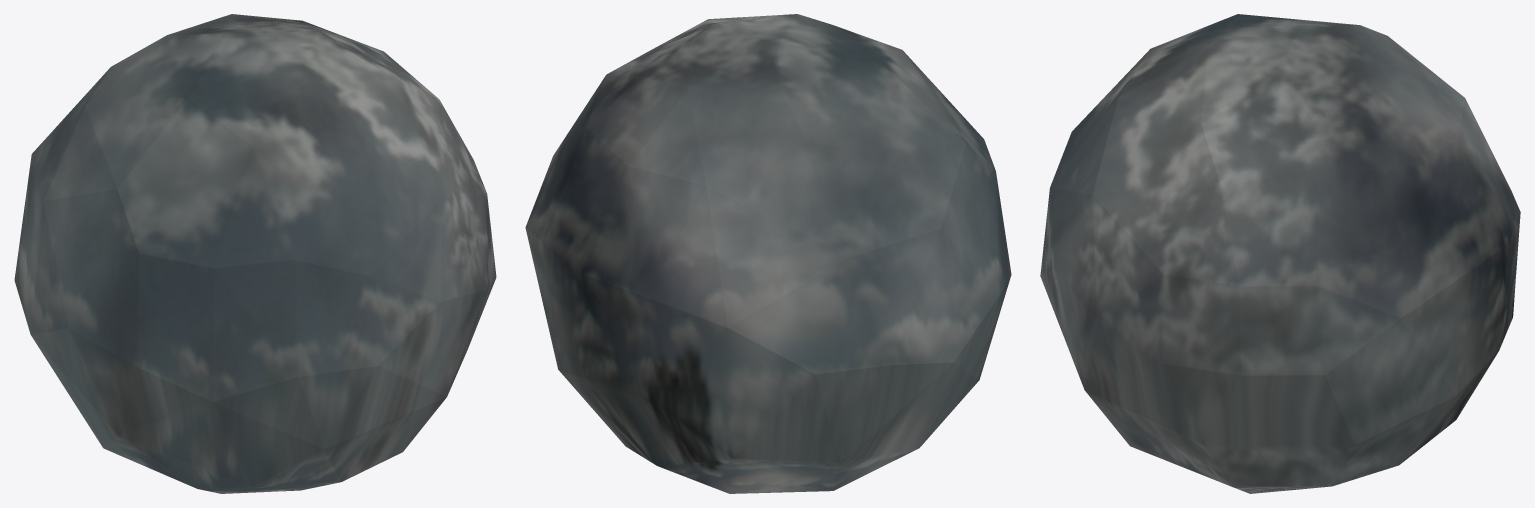
Rendered from skybox.gltf.
3 renders of one model, left to right at view 1: azimuth 30°, elevation 25°; view 2: azimuth 150°, elevation 25°; view 3: azimuth 270°, elevation 25°, orthographic.
Visible parts, largest first — view 1: Sphere; view 2: Sphere; view 3: Sphere.
Boxes of the visible parts, bbox=[...] form: Sphere: bbox=[14, 14, 496, 493]; Sphere: bbox=[525, 14, 1011, 493]; Sphere: bbox=[1040, 14, 1520, 493].
Bounding box in the file's own units: 569 × 575 × 572.
Materials: 1 (1 with a texture image).
